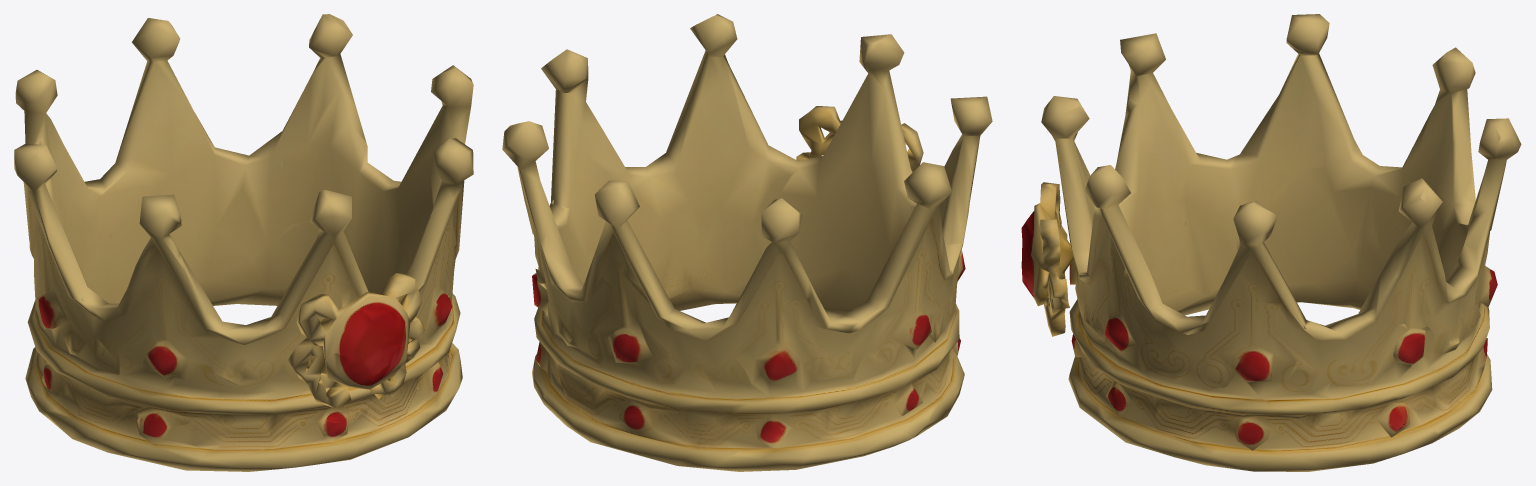
Rendered from Crown_T4.fbx.
3 renders of one model, left to right at view 1: azimuth 30°, elevation 25°; view 2: azimuth 150°, elevation 25°; view 3: azimuth 270°, elevation 25°, orthographic.
Parts seen in each view (by area): view 1: Crown_T4; view 2: Crown_T4; view 3: Crown_T4.
Boxes of the visible parts, left/top/right/bottom form: Crown_T4: left=14, top=14, right=473, bottom=471; Crown_T4: left=502, top=14, right=992, bottom=471; Crown_T4: left=1021, top=14, right=1521, bottom=471.
Size of the model in its own units: 99.26 by 61.49 by 100.
Materials: 1 (1 with a texture image).
